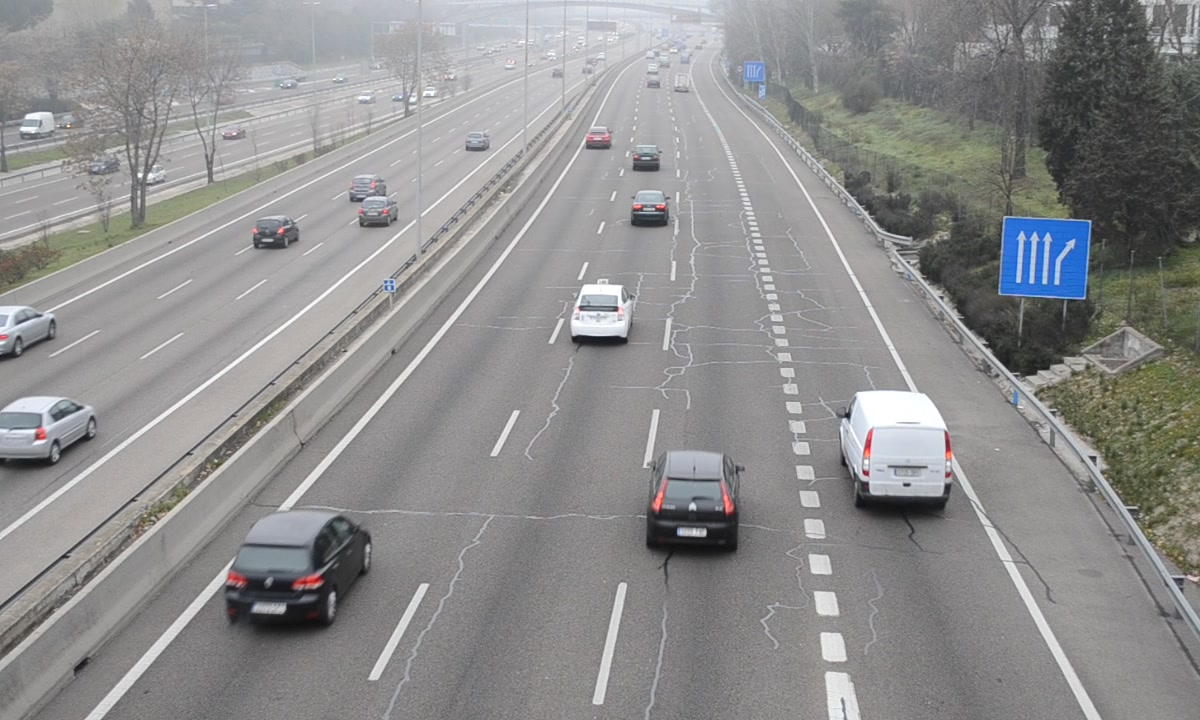car: (223, 512, 371, 620), (647, 451, 740, 548), (570, 283, 632, 337), (630, 188, 670, 227), (630, 143, 662, 174), (583, 125, 613, 149)
van: (843, 391, 952, 505)
